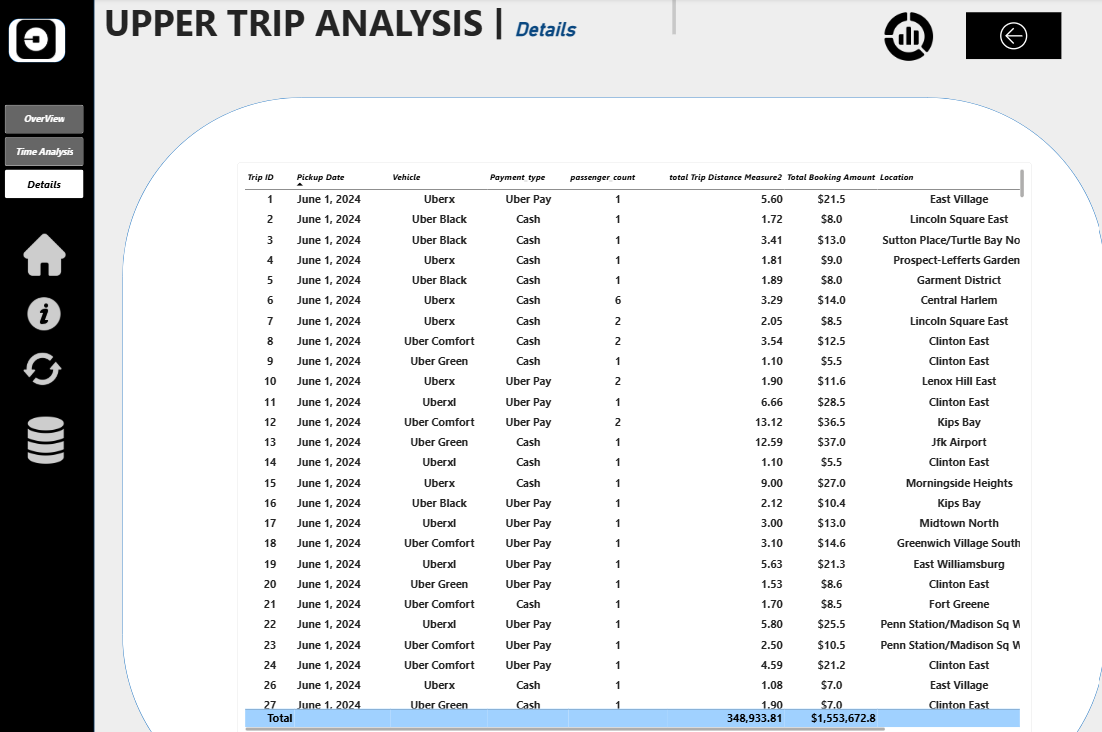

What the dashboard file says about the page in this screenshot:
{"tool":"powerbi","page":{"name":"Details ","canvas":[2500,1900],"ordinal":2},"visuals":[{"type":"shape","box":[0,0,218.4,1897.4],"z":0},{"type":"shape","box":[26.7,60,126.7,97.8],"z":1000},{"type":"textbox","box":[238.3,13.3,1271.7,93.3],"z":2000},{"type":"textbox","box":[874.3,1807.1,457.1,91.4],"z":3000},{"type":"textbox","box":[240,1730,1025,150],"z":4000},{"type":"shape","box":[281.6,236.8,2186.8,1592.1],"z":5000},{"type":"tableEx","fields":{"Values":["Trip Details.Trip ID","Trip Details.Pickup Date","Trip Details.Vehicle","Trip Details.Payment_type","Trip Details.passenger_count","Calender Table.total Trip Distance Measure2","Calender Table.Total Booking Amount","Location Table.Location","Calender Table.Total Bookings","Trip Details.PickUp_Hour (bins)"]},"box":[536.8,381.6,1765.8,1281.6],"z":6000},{"type":"actionButton","box":[2156,48,212,104],"z":7000},{"type":"image","box":[1900,48,256,108],"z":9000},{"type":"image","box":[27.5,65,122.5,87.5],"z":10000},{"type":"pageNavigator","box":[20,253.3,175.6,208.9],"z":10001},{"type":"image","box":[26.7,796.3,151.1,84.4],"z":10002},{"type":"image","box":[57.8,924.4,104.4,146.7],"z":10003},{"type":"image","box":[60,535.6,93.3,100],"z":10004},{"type":"image","box":[60,679.3,91.1,73.3],"z":10005}]}

Visuals, with their boxes on the page's 2500x1900 design canvas (x1, y1, x2, y2). These are canvas units, not pixel positions in the 1102x732 screenshot, which may show the page scaled, cropped or inside an application window:
shape: <box>0,0,218,1897</box>
shape: <box>27,60,153,158</box>
textbox: <box>238,13,1510,107</box>
textbox: <box>874,1807,1331,1898</box>
textbox: <box>240,1730,1265,1880</box>
shape: <box>282,237,2468,1829</box>
tableEx - Trip Details.Trip ID x Trip Details.Pickup Date: <box>537,382,2303,1663</box>
actionButton: <box>2156,48,2368,152</box>
image: <box>1900,48,2156,156</box>
image: <box>28,65,150,152</box>
pageNavigator: <box>20,253,196,462</box>
image: <box>27,796,178,881</box>
image: <box>58,924,162,1071</box>
image: <box>60,536,153,636</box>
image: <box>60,679,151,753</box>
